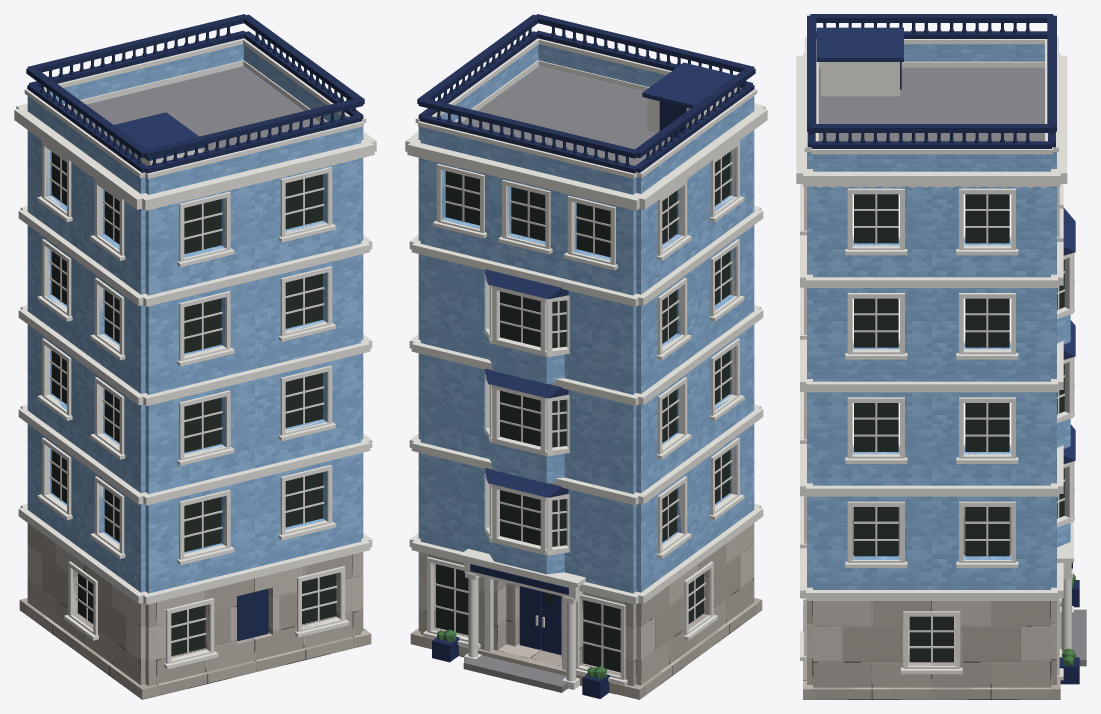
File: gedung-g08-blender-v1.glb
3 renders of one model, left to right at view 1: azimuth 30°, elevation 25°; view 2: azimuth 150°, elevation 25°; view 3: azimuth 270°, elevation 25°, orthographic. The views are drawn at different scales.
Visible parts, largest first — view 1: Cube.113, Cube.008, Cube, Cube.012, Cube.039, Cube.035, Cube.631; view 2: Cube.113, Cube.008, Cube.012, Cube.039, Cube, Cube.035, Cube.631; view 3: Cube.113, Cube.008, Cube, Cube.012, Cube.035, Cube.039, Cube.631.
Boxes of the visible parts, x1,y1,x2,y2 form: Cube.113: [27, 44, 363, 593]; Cube.008: [14, 38, 376, 669]; Cube: [19, 523, 371, 699]; Cube.012: [51, 152, 336, 656]; Cube.039: [26, 14, 364, 641]; Cube.035: [69, 66, 319, 151]; Cube.631: [114, 112, 205, 160]; Cube.113: [418, 44, 754, 593]; Cube.008: [405, 38, 767, 694]; Cube.012: [436, 152, 730, 672]; Cube.039: [417, 14, 755, 698]; Cube: [410, 523, 762, 699]; Cube.035: [462, 66, 670, 692]; Cube.631: [485, 62, 735, 497]; Cube.113: [807, 44, 1070, 589]; Cube.008: [796, 37, 1074, 680]; Cube: [803, 507, 1060, 699]; Cube.012: [854, 194, 1064, 662]; Cube.035: [818, 67, 1086, 666]; Cube.039: [807, 14, 1079, 684]; Cube.631: [816, 27, 1075, 463].
Bounding box in the file's own units: 7.33 × 15.93 × 7.32.
8 materials, 2 textured.
